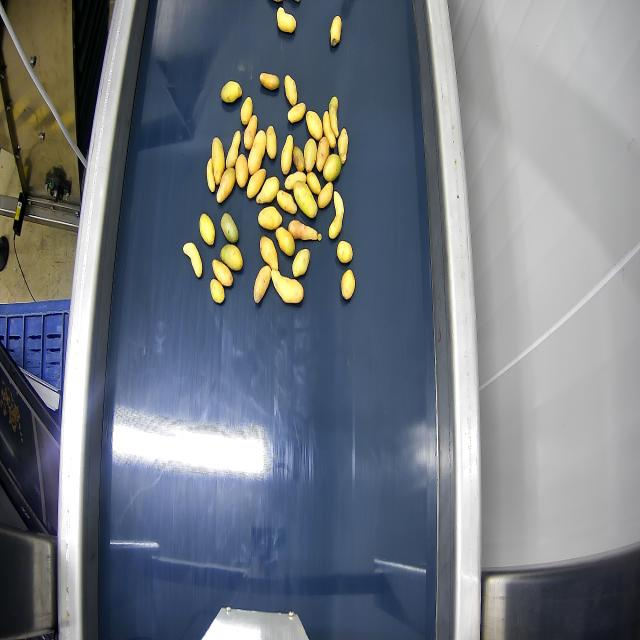Baby Potato: (271, 270, 303, 303), (294, 181, 317, 218), (248, 130, 266, 175), (216, 167, 236, 204), (254, 265, 272, 304), (183, 242, 202, 278), (329, 191, 343, 239), (288, 220, 321, 240), (256, 176, 279, 203), (212, 137, 225, 184), (247, 168, 266, 199), (260, 236, 277, 270), (258, 206, 282, 230), (221, 245, 243, 271), (212, 260, 232, 287), (199, 213, 215, 246), (276, 227, 294, 256), (221, 213, 238, 243), (323, 154, 341, 182), (292, 249, 310, 277), (226, 131, 240, 167), (244, 114, 257, 151), (323, 112, 336, 149), (306, 111, 322, 141), (281, 135, 293, 175), (277, 191, 297, 215), (235, 154, 249, 188), (316, 136, 329, 172), (304, 138, 317, 172), (221, 81, 241, 103), (277, 8, 295, 32), (341, 269, 354, 300), (285, 172, 306, 191), (306, 172, 322, 196), (329, 96, 338, 138), (318, 183, 333, 208), (285, 75, 297, 106), (330, 16, 342, 46), (338, 128, 348, 164), (337, 240, 352, 263), (288, 103, 305, 123), (210, 279, 224, 303), (266, 126, 276, 159), (260, 73, 279, 90), (241, 97, 252, 126), (292, 146, 304, 171), (207, 158, 215, 192)
